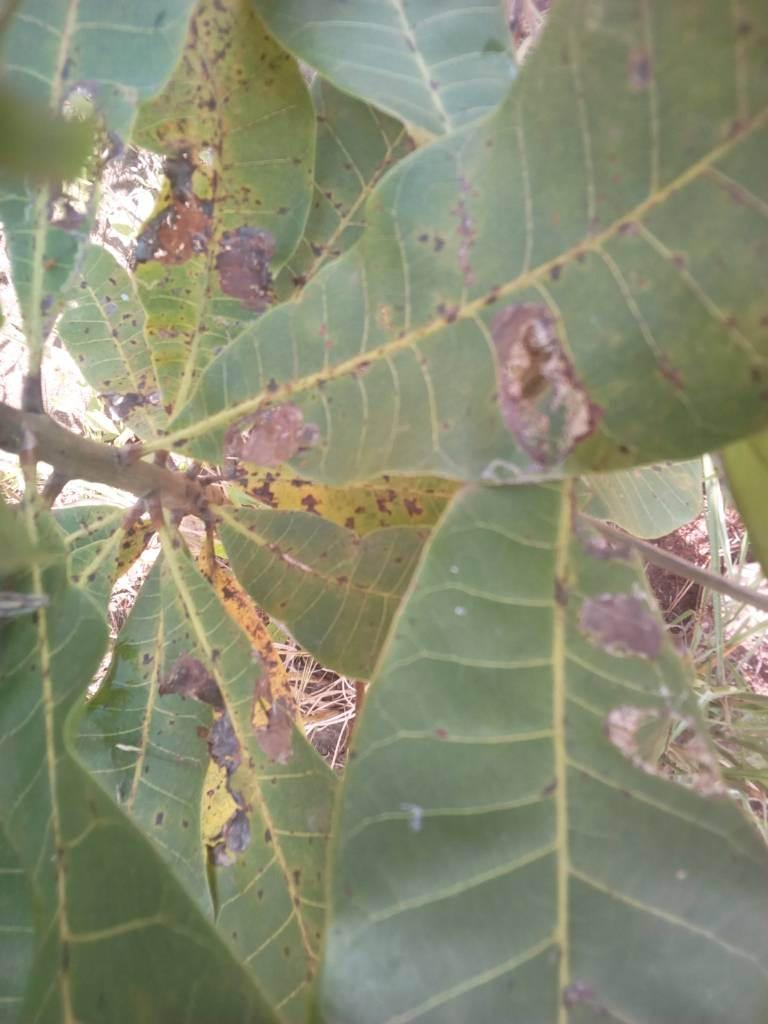Anthracnose: (119, 136, 768, 477)
